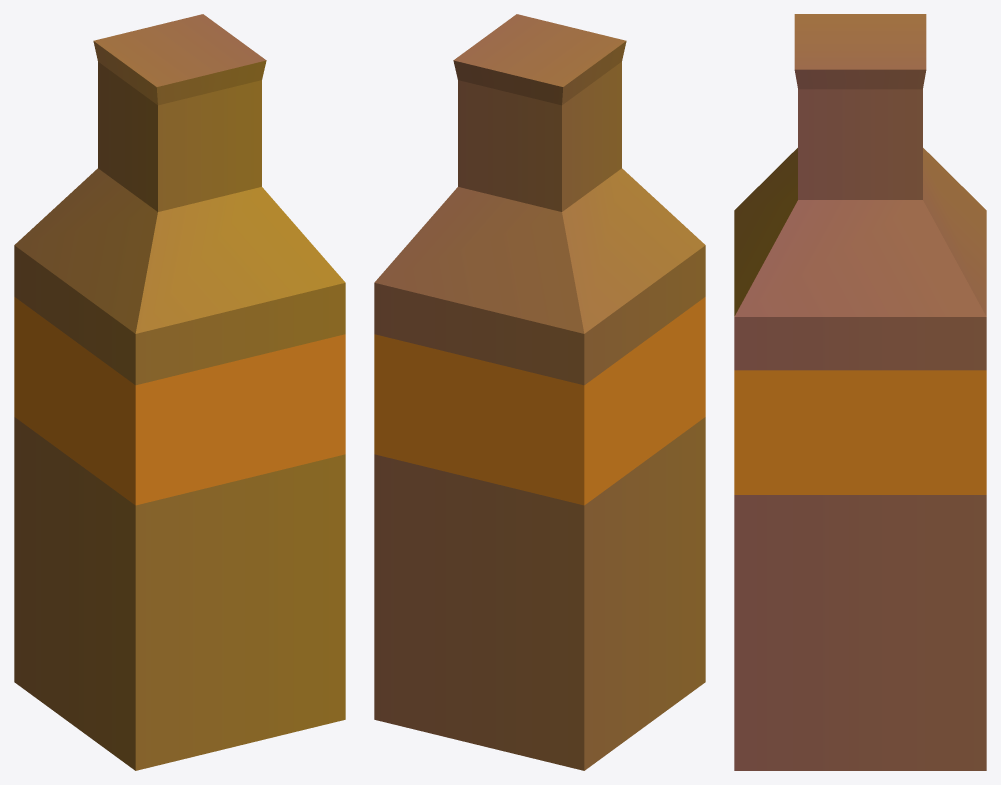
Rendered from B01_bouteille_3_c.fbx.
3 renders of one model, left to right at view 1: azimuth 30°, elevation 25°; view 2: azimuth 150°, elevation 25°; view 3: azimuth 270°, elevation 25°, orthographic. The views are drawn at different scales.
Visible parts, largest first — view 1: B01_bouteille_3_c; view 2: B01_bouteille_3_c; view 3: B01_bouteille_3_c.
Part boxes in pixels (left/top/right/bottom): B01_bouteille_3_c: left=14, top=14, right=345, bottom=770; B01_bouteille_3_c: left=374, top=14, right=705, bottom=770; B01_bouteille_3_c: left=734, top=14, right=986, bottom=770.
Size of the model in its own units: 8.44 by 24.97 by 8.44.
